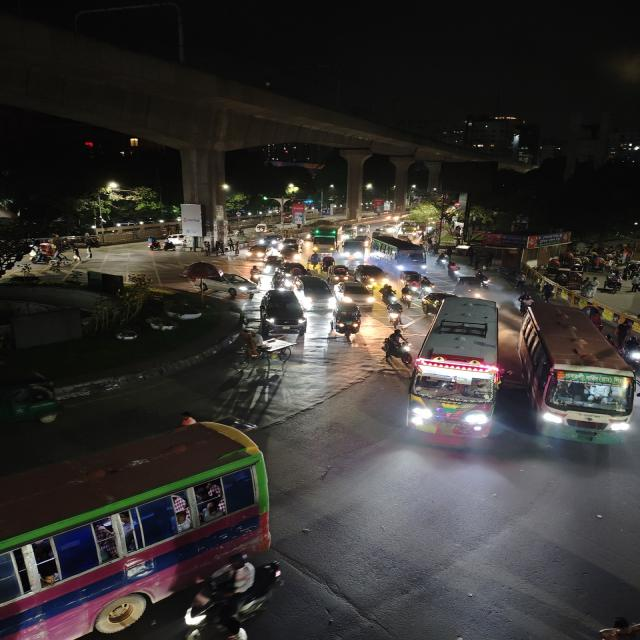bus: (1, 415, 272, 640), (521, 302, 639, 451), (408, 293, 506, 450), (371, 235, 428, 273)
car: (257, 288, 309, 334), (294, 276, 336, 312), (205, 274, 256, 298), (334, 280, 374, 307), (355, 263, 393, 288), (420, 291, 445, 317), (244, 244, 271, 261), (259, 234, 282, 248), (255, 223, 268, 235)
cng: (0, 378, 70, 428), (330, 304, 366, 340), (454, 277, 482, 298), (331, 264, 352, 282)
motorcycle: (180, 556, 278, 640), (379, 328, 412, 376), (384, 302, 407, 327), (378, 283, 400, 307), (399, 284, 416, 309), (516, 292, 535, 314), (417, 276, 436, 294), (248, 264, 265, 284), (477, 272, 492, 290), (146, 237, 162, 252), (160, 239, 178, 252), (435, 254, 448, 268)
pedestrian: (580, 278, 598, 299), (539, 282, 556, 304), (629, 276, 640, 294), (231, 241, 242, 256), (202, 241, 213, 256)
pickup_van: (340, 238, 367, 264)
rickshaw: (230, 338, 306, 369), (271, 270, 291, 290), (604, 274, 621, 294)
truck: (311, 226, 342, 253)
